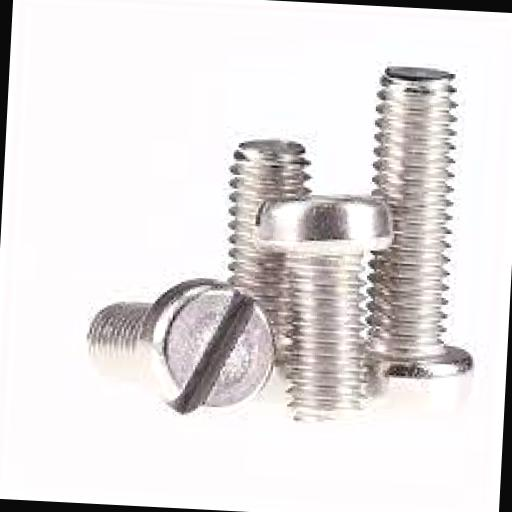Slotted: (140, 268, 277, 424)
